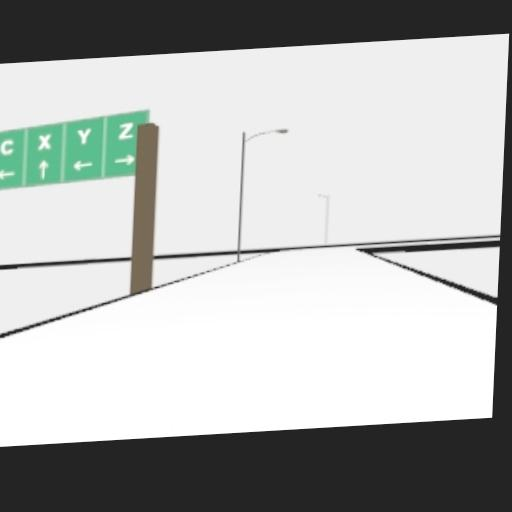C: (0, 138, 13, 155)
Left: (0, 172, 18, 186), (72, 159, 93, 170), (0, 169, 15, 180)
Right: (113, 154, 134, 166)
Straight: (38, 159, 49, 179)
X: (38, 134, 51, 150)
Y: (75, 127, 91, 144)
Z: (117, 121, 133, 138)
